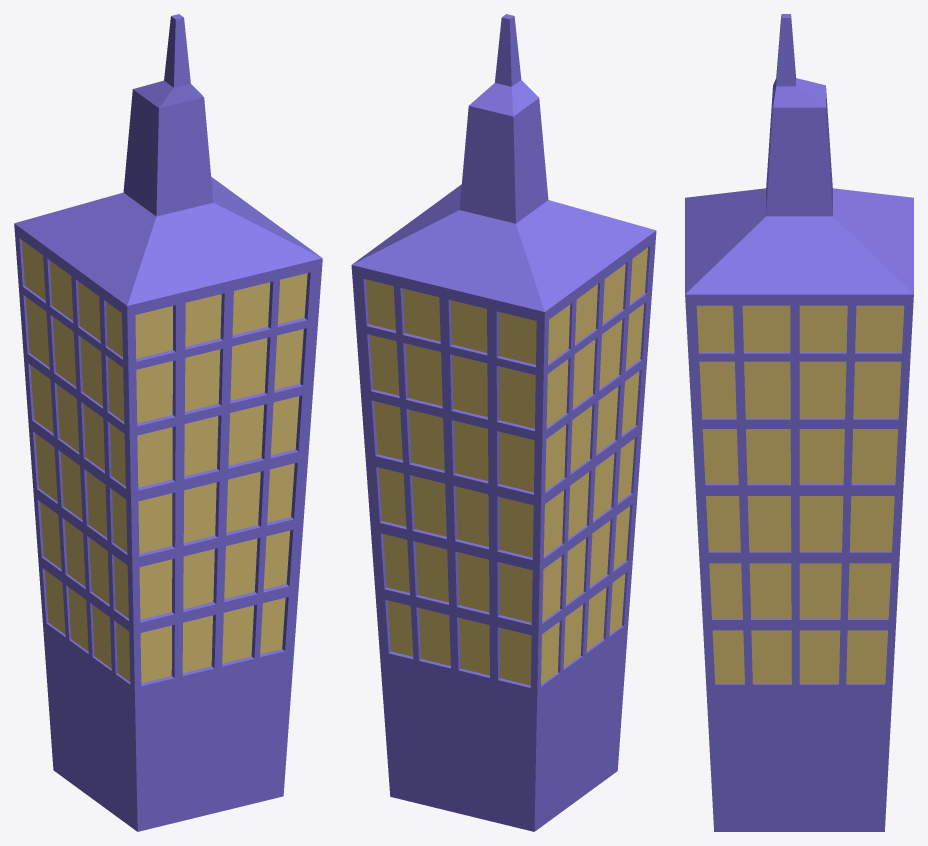
The model's file is asset.glb.
3 renders of one model, left to right at view 1: azimuth 30°, elevation 25°; view 2: azimuth 150°, elevation 25°; view 3: azimuth 270°, elevation 25°, orthographic. The views are drawn at different scales.
Visible parts, largest first — view 1: Building; view 2: Building; view 3: Building.
Part boxes in pixels (bbox=[...]): Building: bbox=[14, 14, 322, 831]; Building: bbox=[351, 14, 656, 831]; Building: bbox=[685, 14, 913, 831].
Size of the model in its own units: 2.68 by 10.1 by 2.68.
